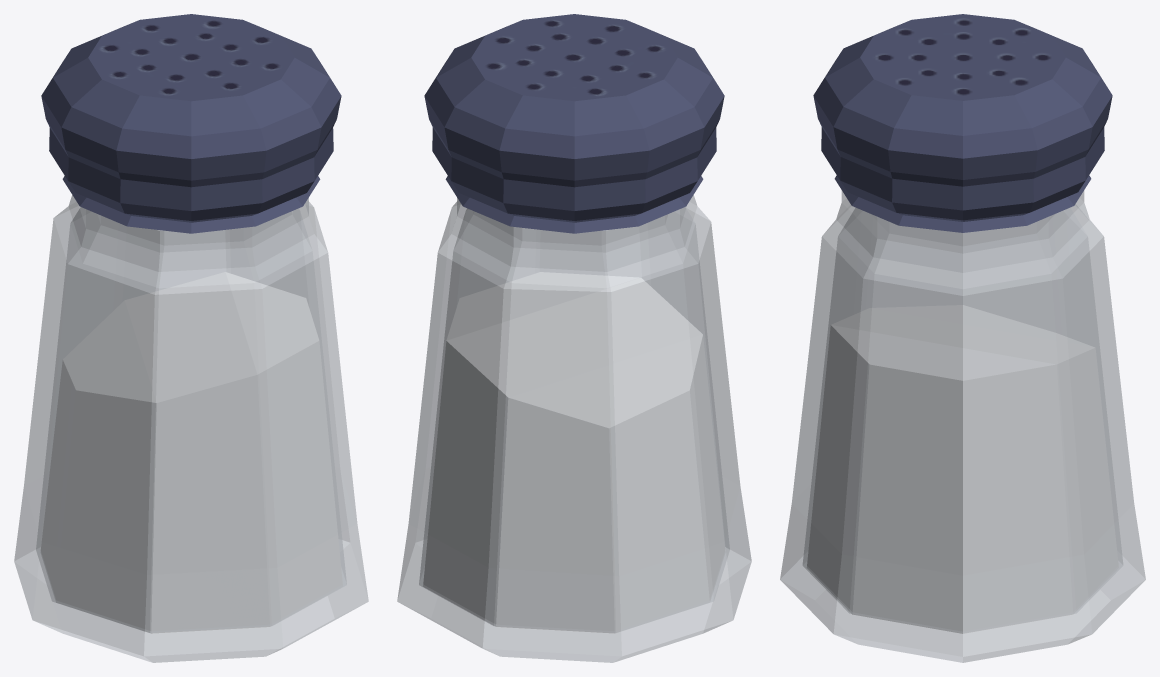
File: f_saltshaker.fbx
3 renders of one model, left to right at view 1: azimuth 30°, elevation 25°; view 2: azimuth 150°, elevation 25°; view 3: azimuth 270°, elevation 25°, orthographic.
Parts seen in each view (by area): view 1: saltshaker_body, salt_inside, salt_cap; view 2: saltshaker_body, salt_inside, salt_cap; view 3: saltshaker_body, salt_inside, salt_cap.
Boxes of the visible parts, x1,y1,x2,y2 form: saltshaker_body: [14, 195, 368, 662]; salt_inside: [41, 272, 342, 633]; salt_cap: [41, 14, 341, 233]; saltshaker_body: [397, 195, 751, 662]; salt_inside: [423, 272, 724, 633]; salt_cap: [424, 14, 724, 233]; saltshaker_body: [780, 191, 1145, 662]; salt_inside: [807, 305, 1118, 633]; salt_cap: [813, 14, 1112, 232].
Size of the model in its own units: 13.55 by 13.55 by 22.17.
2 materials, 2 textured.
